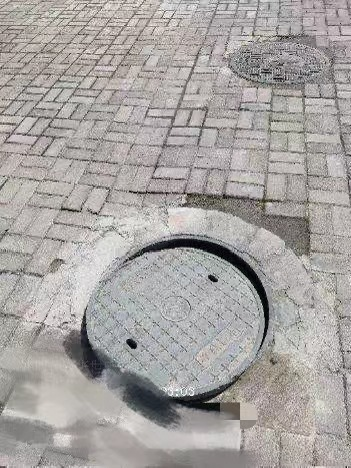well: (75, 233, 272, 399), (226, 34, 330, 84)
